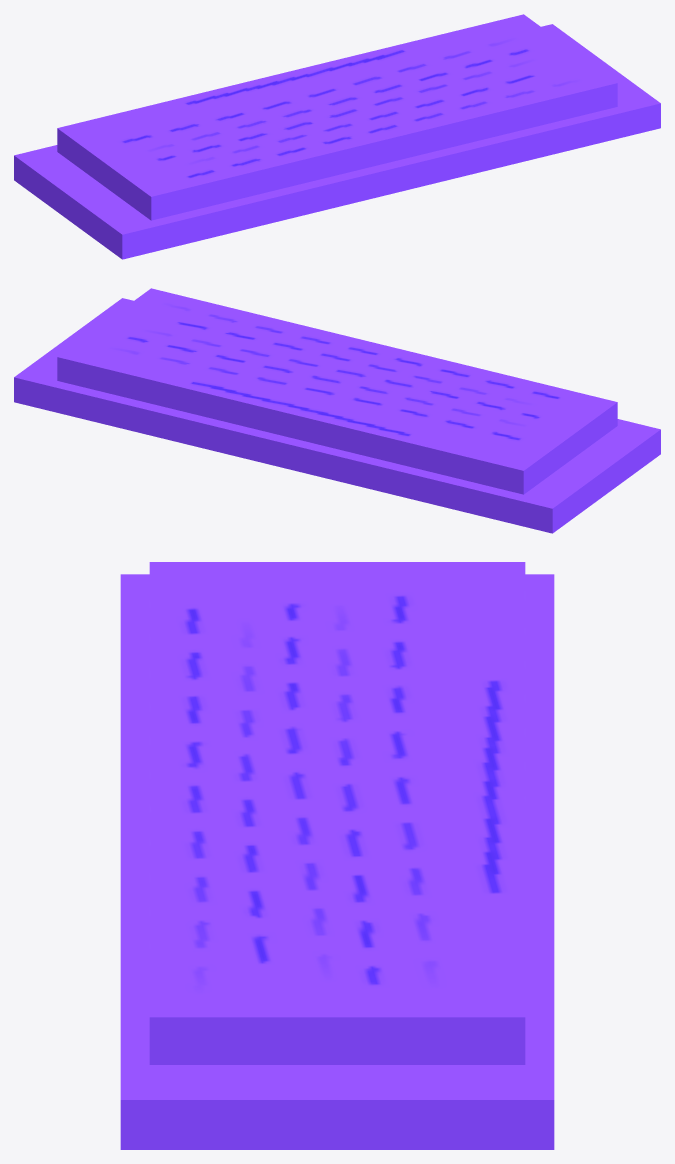
File: Keyboard.glb
3 renders of one model, top to bottom at view 1: azimuth 30°, elevation 25°; view 2: azimuth 150°, elevation 25°; view 3: azimuth 270°, elevation 25°, orthographic. The views are drawn at different scales.
Parts seen in each view (by area): view 1: Keyboard; view 2: Keyboard; view 3: Keyboard.
Part boxes in pixels (<box>): Keyboard: <box>14,14,660,259</box>; Keyboard: <box>14,288,660,533</box>; Keyboard: <box>120,562,554,1149</box>.
Size of the model in its own units: 0.7307 by 0.0631 by 0.2548.
1 material, 1 textured.
